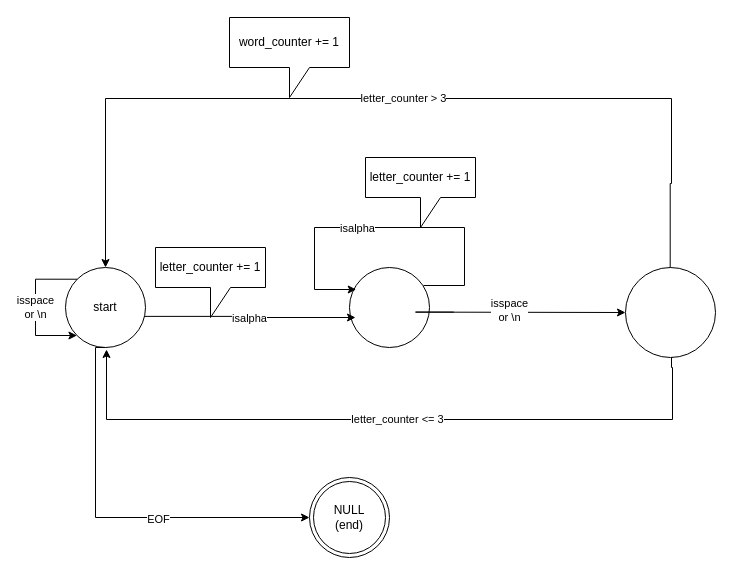
Some shapes in this 733 by 575 pixel diagram are drawn without their labels. Each missing label, with the centre of its shape:
word: the point at 389,307
word_type: the point at 670,312
